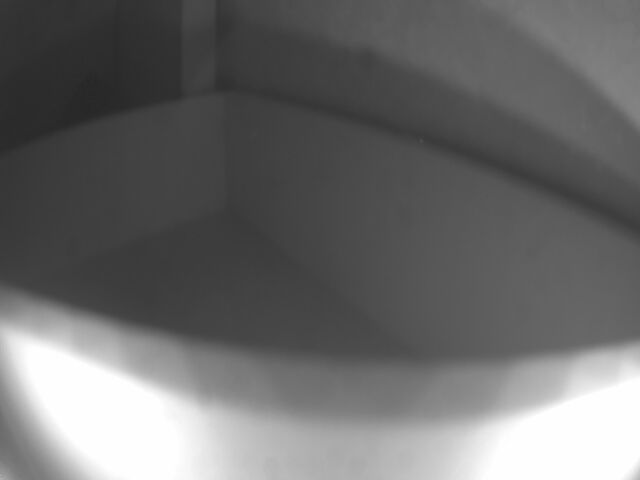Red: (0, 304, 640, 480)
